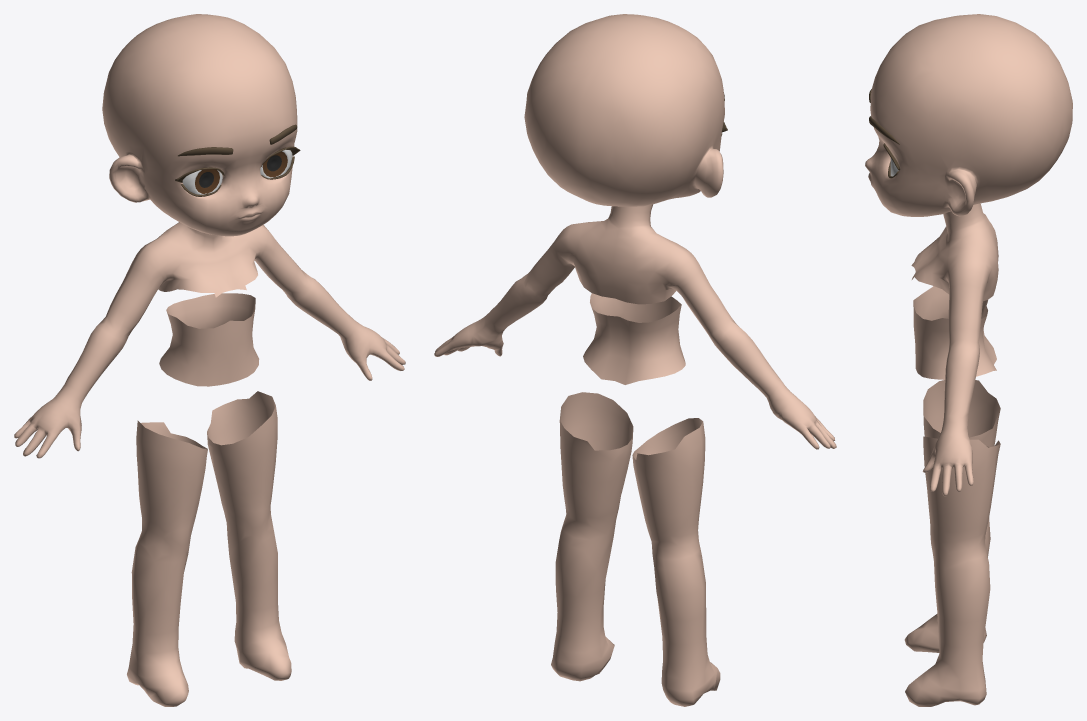
Rendered from body_base.fbx.
3 renders of one model, left to right at view 1: azimuth 30°, elevation 25°; view 2: azimuth 150°, elevation 25°; view 3: azimuth 270°, elevation 25°, orthographic. The views are drawn at different scales.
Visible parts, largest first — view 1: body base_l; view 2: body base_l; view 3: body base_l.
Boxes of the visible parts, bbox=[...] form: body base_l: bbox=[14, 14, 405, 706]; body base_l: bbox=[434, 14, 836, 706]; body base_l: bbox=[865, 14, 1072, 706].
Size of the model in its own units: 85.36 by 138 by 39.71.
